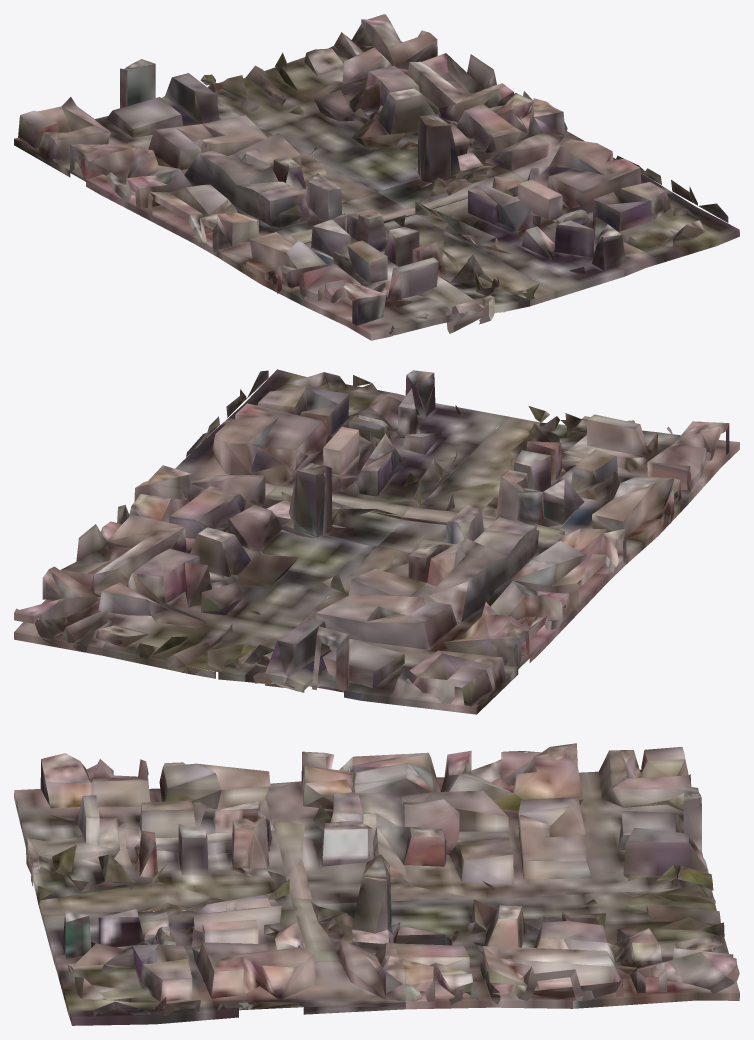
The picture shows the model from 3 angles, top to bottom: view 1: azimuth 30°, elevation 25°; view 2: azimuth 150°, elevation 25°; view 3: azimuth 270°, elevation 25°; orthographic projection. The views are drawn at different scales.
Parts seen in each view (by area): view 1: Mesh_0; view 2: Mesh_0; view 3: Mesh_0.
Boxes of the visible parts, <box> form: Mesh_0: <box>14,14,739,340</box>; Mesh_0: <box>14,369,739,714</box>; Mesh_0: <box>14,743,739,1025</box>.
Bounding box in the file's own units: 532 × 89.48 × 659.
2 materials, 2 textured.
